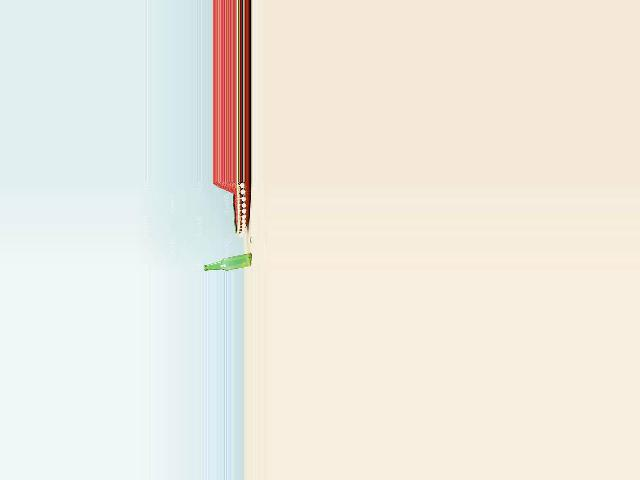beer: (203, 253, 252, 270)
